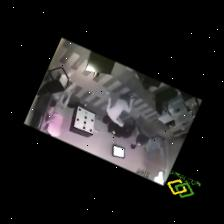person: (45, 90, 71, 136), (102, 91, 134, 125)
